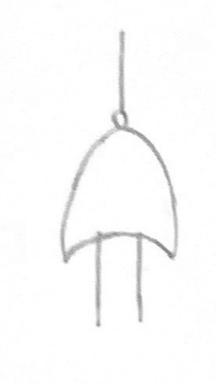NOR: (42, 93, 197, 272)
